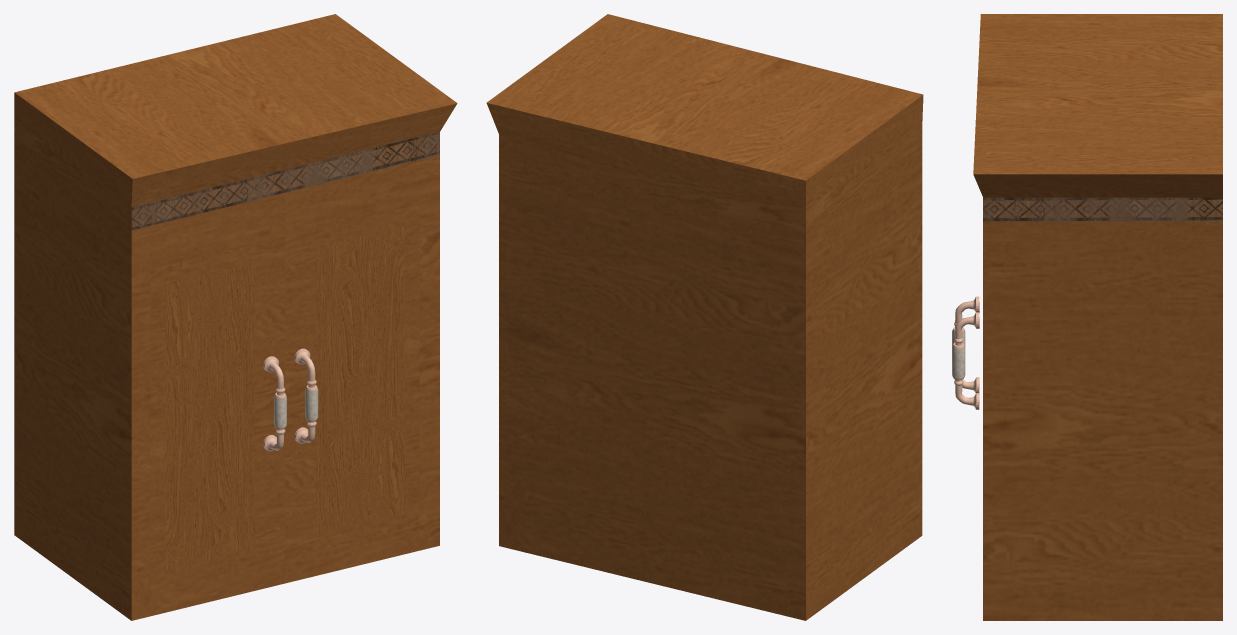
File: TopCabinet_End_R.fbx
3 renders of one model, left to right at view 1: azimuth 30°, elevation 25°; view 2: azimuth 150°, elevation 25°; view 3: azimuth 270°, elevation 25°, orthographic. The views are drawn at different scales.
Parts seen in each view (by area): view 1: pCube18, pCube14, pCube193, pCube192, pCylinder107, pCylinder108; view 2: pCube18, pCube14; view 3: pCube18, pCube14, pCylinder107, pCylinder108.
Part boxes in pixels (x1,y1,x2,y2): pCube18: (14, 164, 439, 620); pCube14: (14, 14, 457, 249); pCube193: (150, 236, 284, 591); pCube192: (285, 203, 419, 559); pCylinder107: (294, 348, 318, 443); pCylinder108: (263, 356, 286, 451); pCube18: (499, 167, 922, 620); pCube14: (486, 14, 923, 251); pCube18: (983, 241, 1222, 620); pCube14: (973, 14, 1222, 241); pCylinder107: (952, 312, 979, 409); pCylinder108: (952, 296, 979, 393).
Bounding box in the file's own units: 0.8661 × 1.14 × 0.618.
